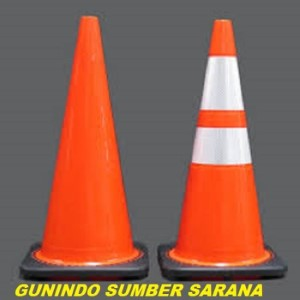traffic cone: (19, 16, 149, 279), (157, 19, 288, 278)
